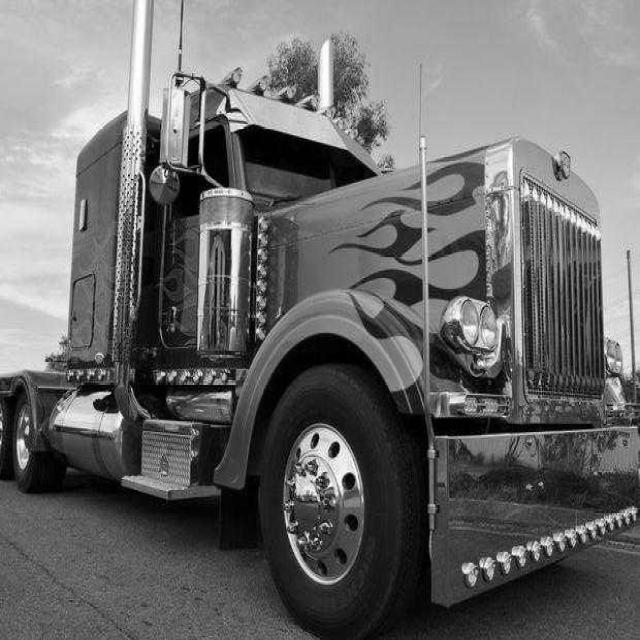Truck: (0, 3, 606, 637)
